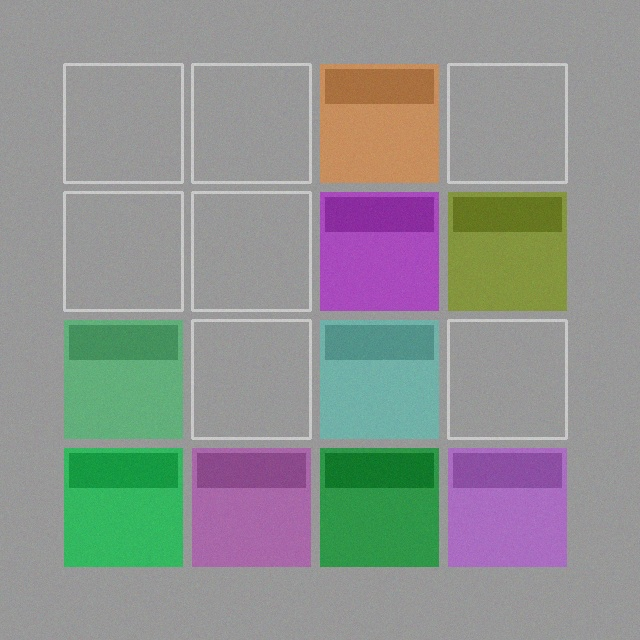space-empty: (64, 64, 182, 182), (192, 64, 310, 182), (448, 64, 566, 182), (64, 192, 182, 310), (192, 192, 310, 310), (192, 320, 310, 438), (448, 320, 566, 438)
space-occupied: (320, 64, 438, 182), (320, 192, 438, 310), (448, 192, 566, 310), (64, 320, 182, 438), (320, 320, 438, 438), (64, 448, 182, 566), (192, 448, 310, 566), (320, 448, 438, 566), (448, 448, 566, 566)
